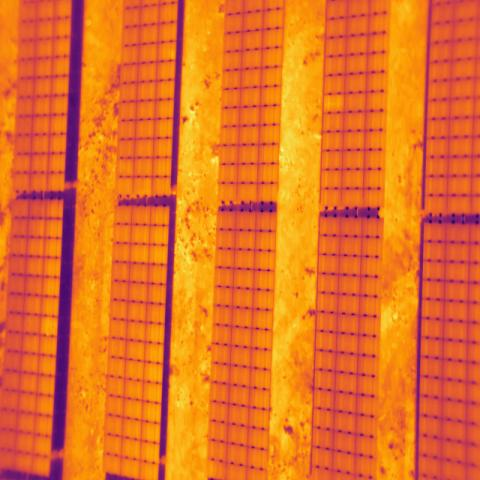fault: (322, 95, 344, 114), (40, 316, 58, 338)
